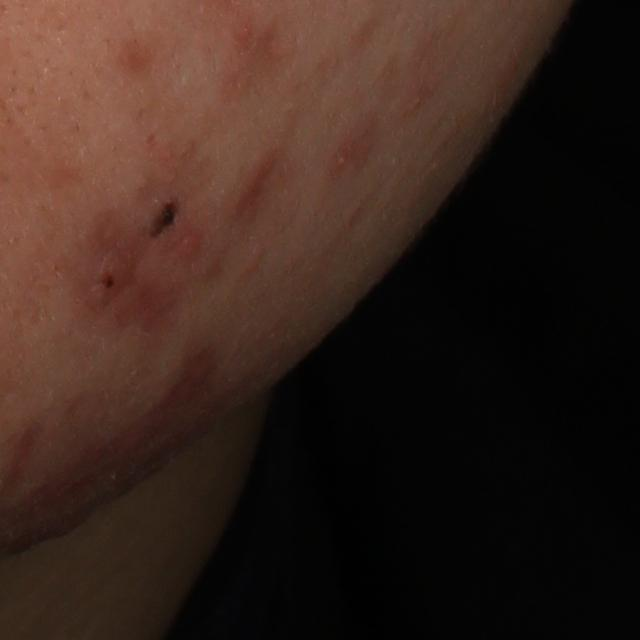nevus: (148, 199, 178, 237)
